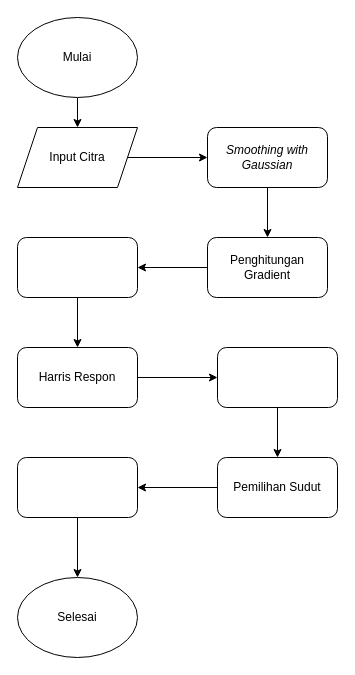
Some shapes in this 355 by 675 pixel diagram are drawn without their labels. Here are the shapes that lost their labels. From the top down, the centre of each, then its label:
At [77,267]: "Membentuk Second Moment Matrix".
At [277,377]: "Thresholding & Non-maximum Suppression".
At [77,487]: "Penghitungan Panjang & Berat".
